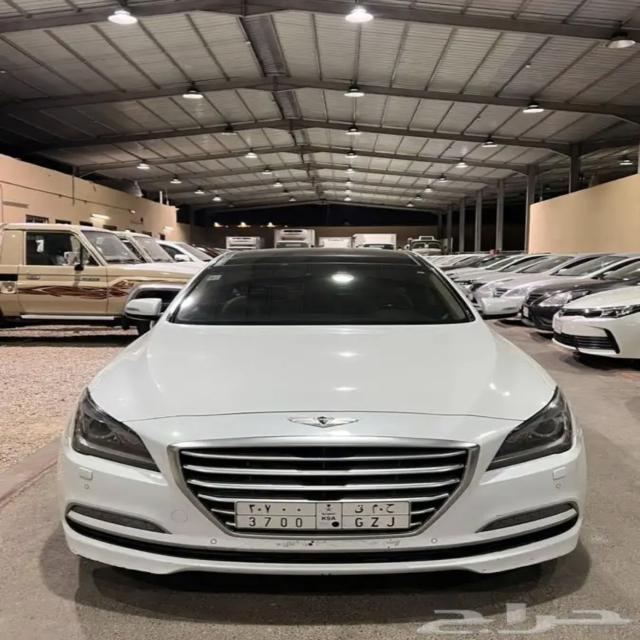license_plate: (233, 500, 410, 532)
